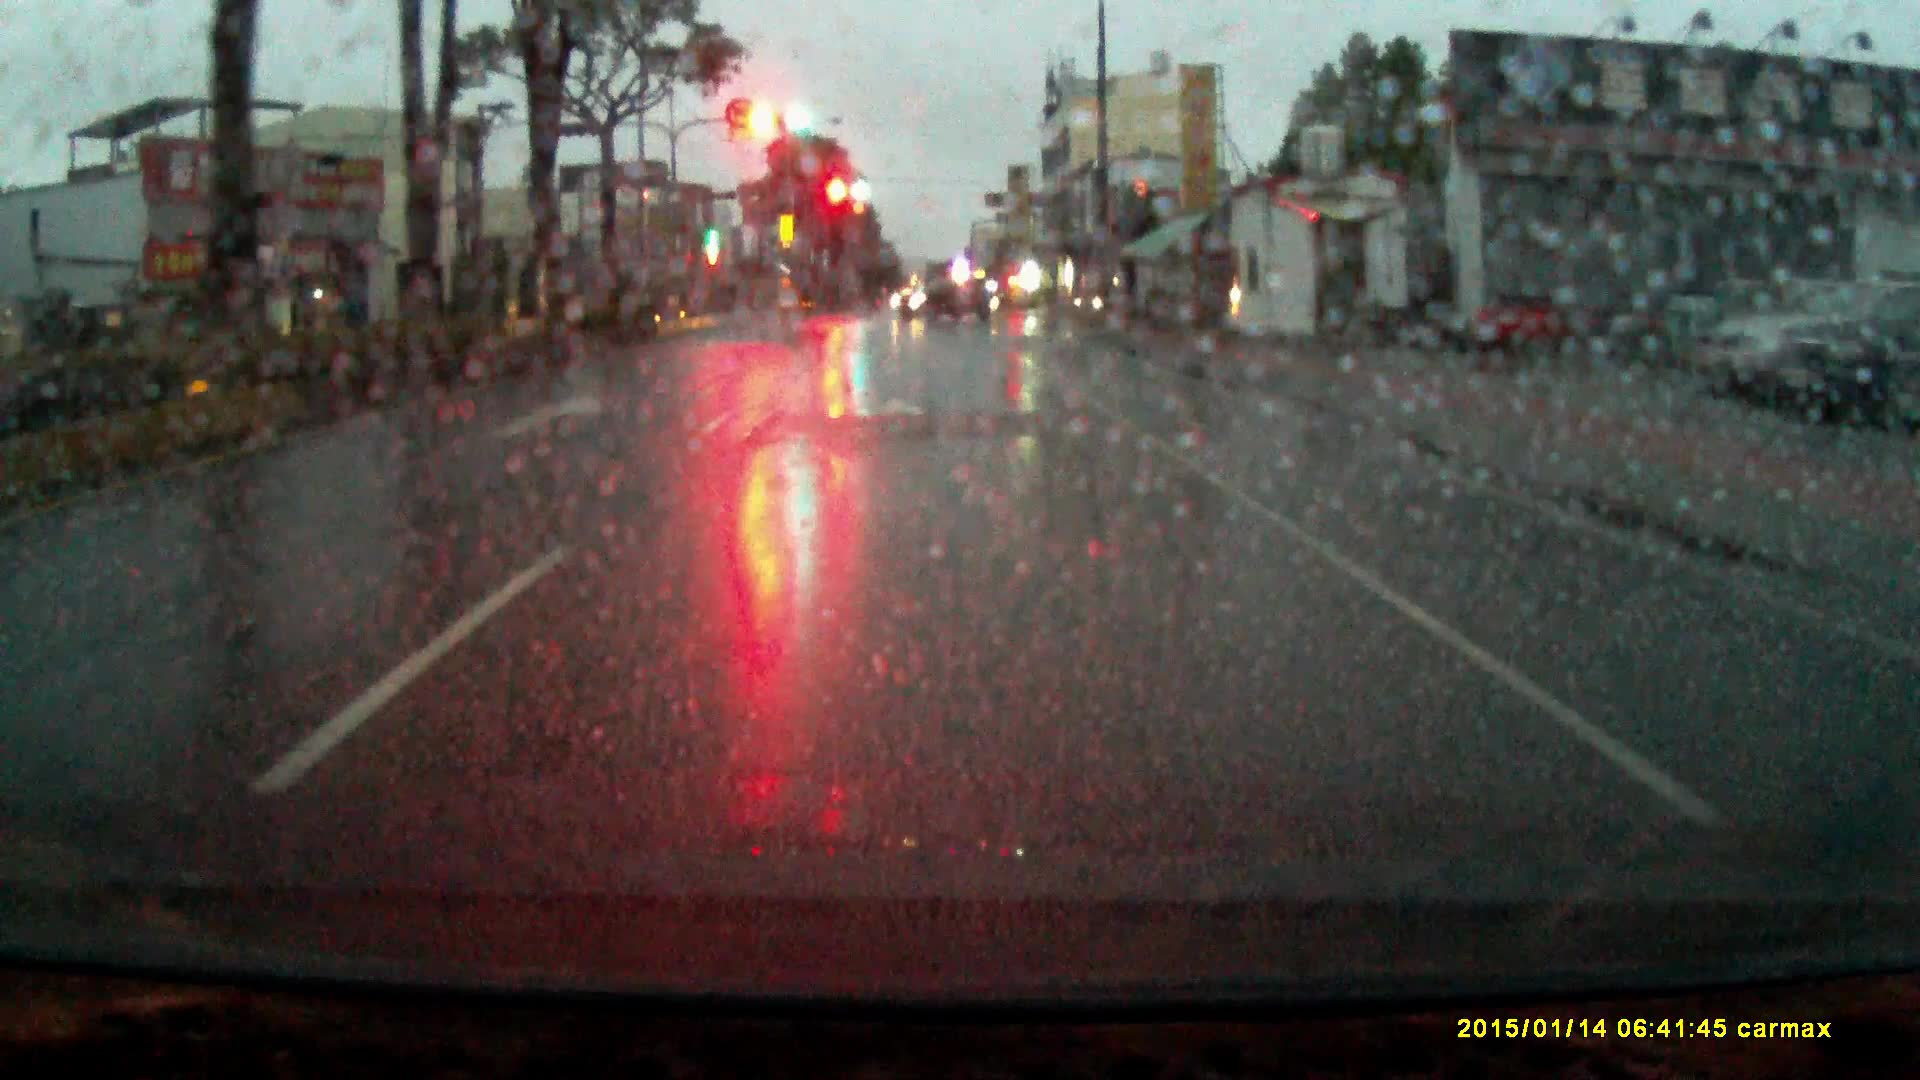vehicle: (1688, 277, 1920, 406), (1791, 298, 1920, 422), (891, 276, 992, 332)
